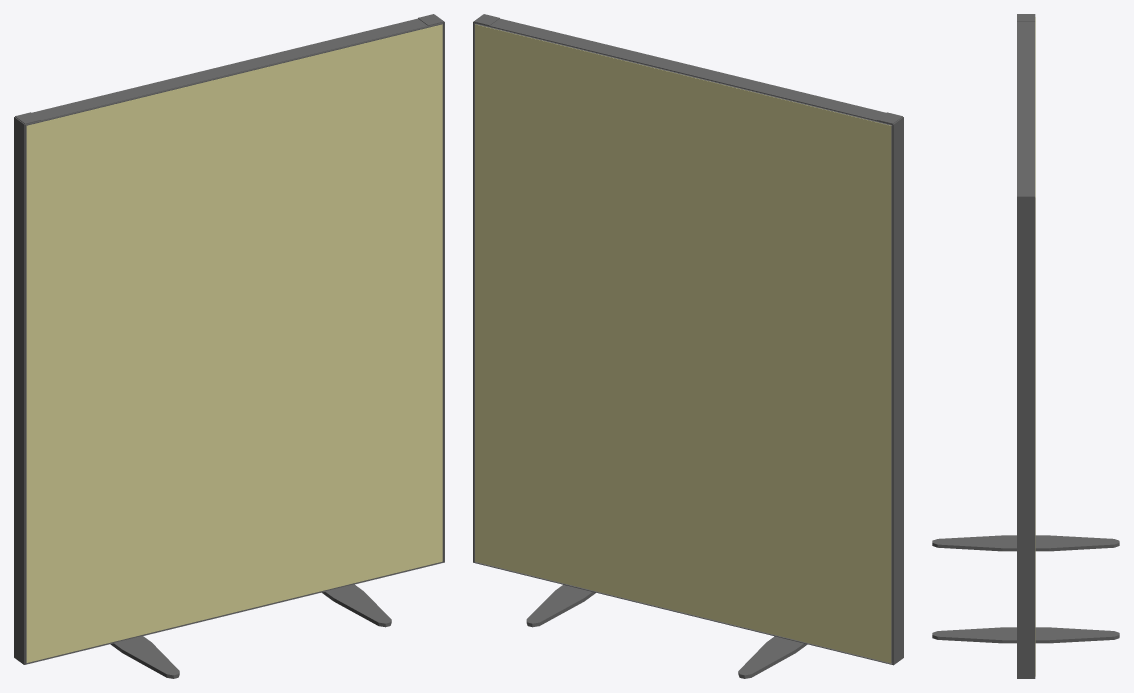
Rendered from Standard 38 half-height.glb.
The picture shows the model from 3 angles, left to right: view 1: azimuth 30°, elevation 25°; view 2: azimuth 150°, elevation 25°; view 3: azimuth 270°, elevation 25°; orthographic projection. The views are drawn at different scales.
Visible parts, largest first — view 1: Standard 38 half-height; view 2: toggle_back_panel.003, Standard 38 half-height; view 3: Standard 38 half-height, toggle_back_panel.003.
Boxes of the visible parts, x1,y1,x2,y2 form: Standard 38 half-height: (14,14,444,678); toggle_back_panel.003: (475,24,891,663); Standard 38 half-height: (473,14,903,678); Standard 38 half-height: (932,14,1119,678); toggle_back_panel.003: (1035,17,1035,676).
Bounding box in the file's own units: 0.969 × 1.2 × 0.4191.
